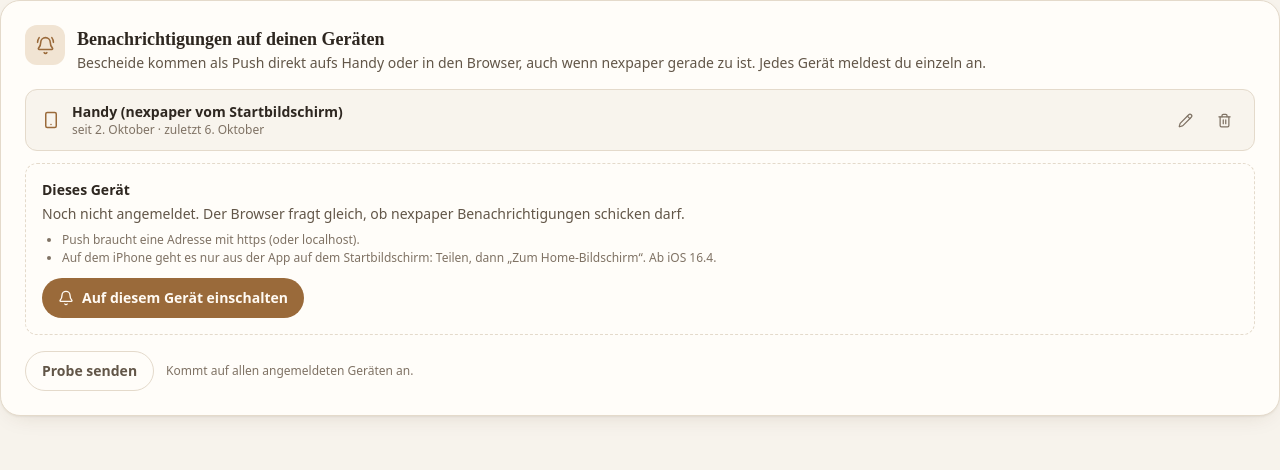
the devices › says what the probe reached
The width and height of the screenshot is (1280, 470).
Click the button "Probe senden".
click(90, 371)  # box left=25, top=351, right=154, bottom=391
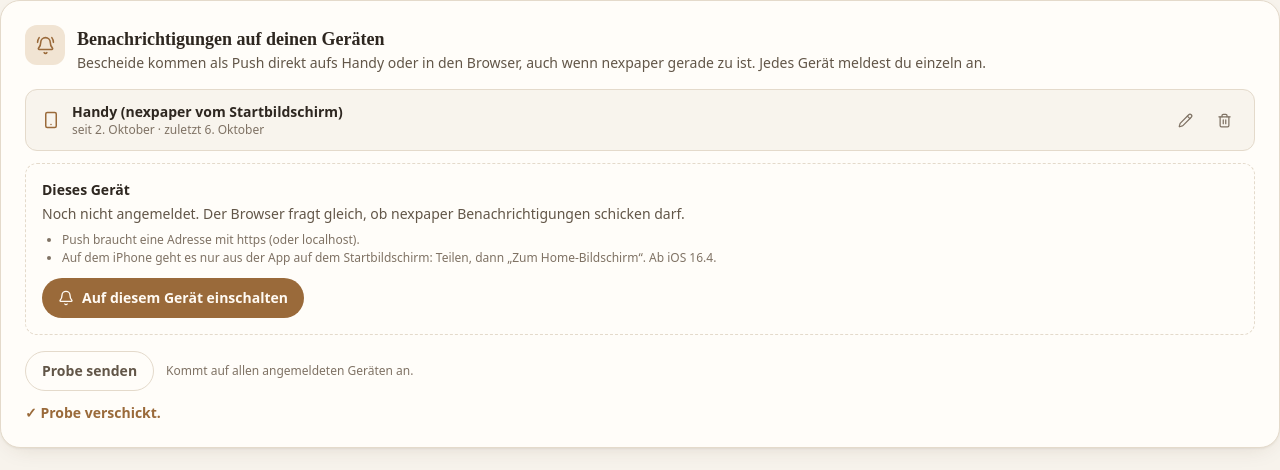
Now the text "Probe verschickt." is shown, box left=40, top=403, right=161, bottom=422
Click the button "Probe senden".
click(90, 371)  # box left=25, top=351, right=154, bottom=391
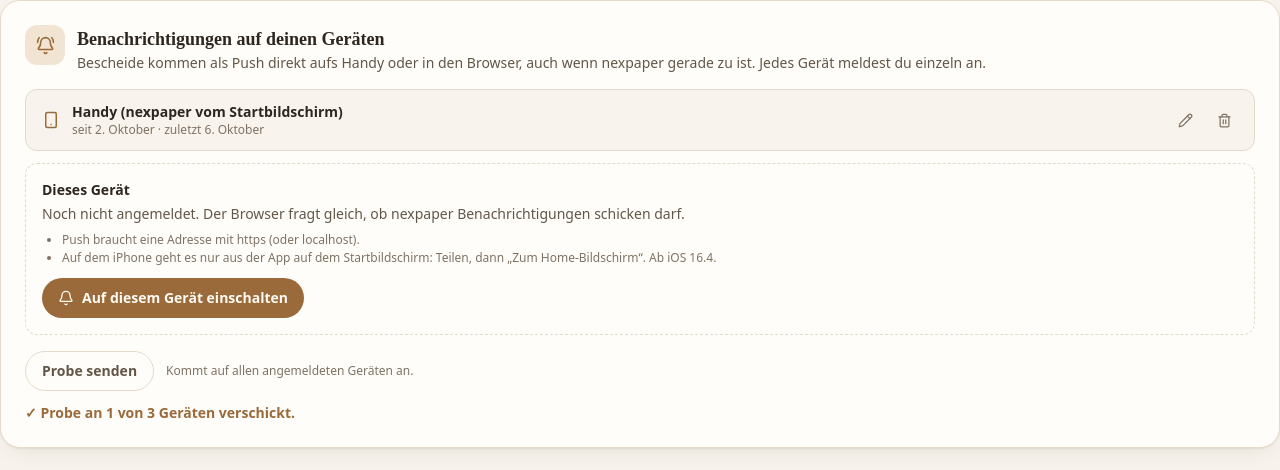
Now the text "Probe an 1 von 3 Geräten verschickt." is shown, box left=40, top=403, right=295, bottom=422
